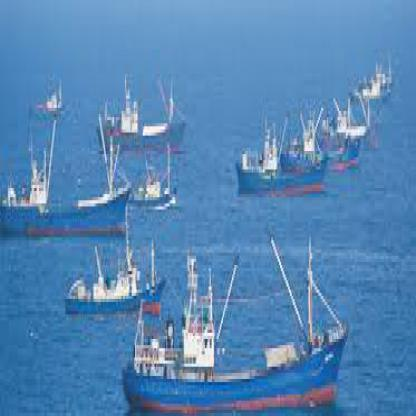fish-b: (126, 243, 354, 413), (0, 117, 134, 256), (89, 74, 192, 173), (62, 237, 170, 324), (231, 117, 334, 200)
